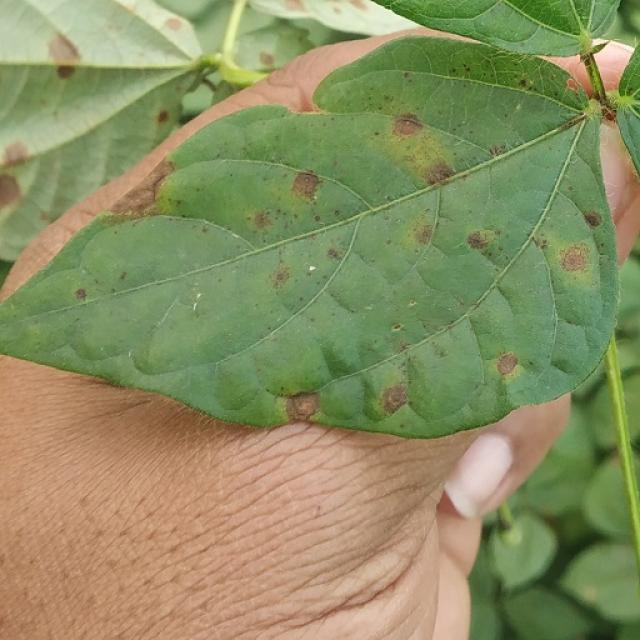Anthracnose: (107, 158, 177, 216), (391, 106, 427, 142), (286, 391, 319, 421), (0, 171, 23, 212), (291, 170, 321, 201), (380, 383, 408, 416), (560, 245, 588, 272), (425, 164, 455, 187), (3, 141, 29, 167), (466, 229, 494, 250), (496, 352, 519, 376), (270, 263, 292, 288), (576, 29, 597, 55), (251, 210, 275, 230), (197, 73, 218, 93), (558, 116, 582, 133), (587, 41, 611, 57), (582, 210, 602, 229), (416, 224, 434, 245), (56, 63, 76, 80), (532, 234, 550, 251), (164, 17, 183, 32), (487, 143, 507, 157), (259, 51, 275, 67), (283, 0, 304, 12), (326, 247, 343, 261), (565, 78, 580, 93), (349, 0, 369, 11), (602, 108, 617, 122), (157, 109, 170, 124), (74, 288, 87, 300), (518, 78, 529, 87), (392, 323, 403, 332), (462, 64, 471, 73), (314, 215, 321, 222)
Blackgram: (0, 39, 616, 436)
